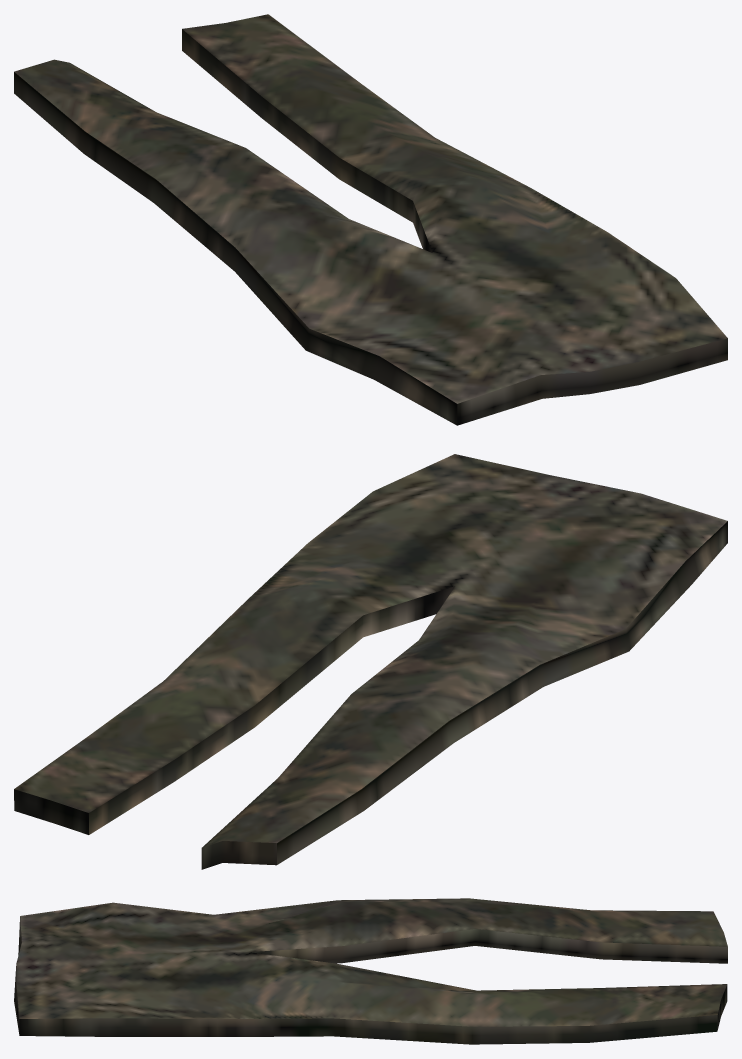
File: Pickup_TrousersA.glb
The picture shows the model from 3 angles, top to bottom: view 1: azimuth 30°, elevation 25°; view 2: azimuth 150°, elevation 25°; view 3: azimuth 270°, elevation 25°; orthographic projection. The views are drawn at different scales.
Visible parts, largest first — view 1: pk_trousers_a; view 2: pk_trousers_a; view 3: pk_trousers_a.
Boxes of the visible parts, x1,y1,x2,y2 form: pk_trousers_a: (14, 14, 727, 425); pk_trousers_a: (14, 454, 727, 869); pk_trousers_a: (14, 898, 727, 1044).
Size of the model in its own units: 0.491 by 0.0865 by 1.22.
Materials: 1 (1 with a texture image).
